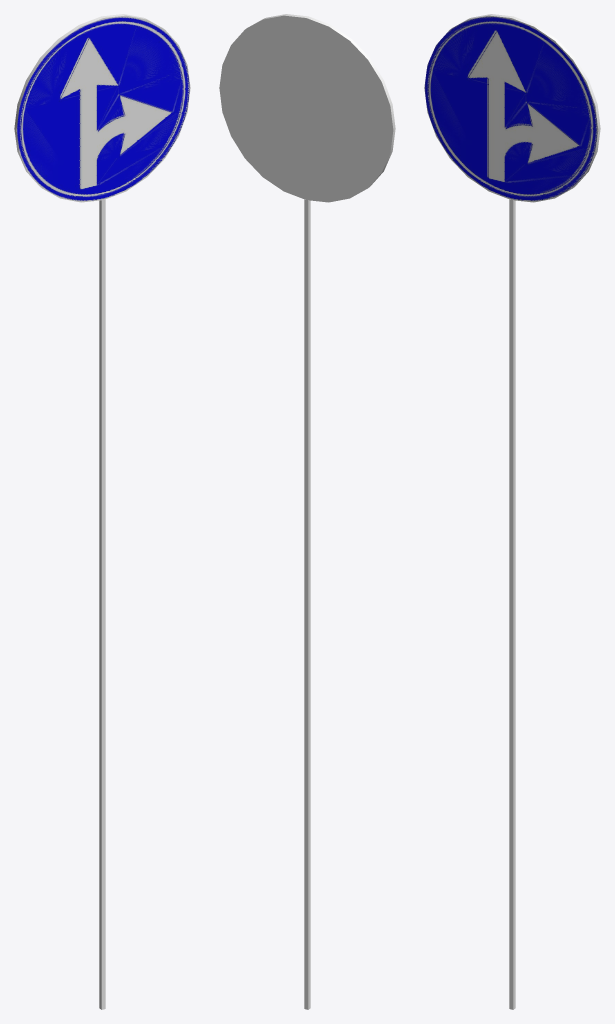
File: trafik_levha_ileri_veya_sola_mecburi_yol.obj
3 views of the same model, side by side, from view 1: azimuth 30°, elevation 25°; view 2: azimuth 150°, elevation 25°; view 3: azimuth 330°, elevation 25° (orthographic).
Visible parts, largest first — view 1: Mesh2 Group3 Group1 Model, Mesh1 Group2 Group1 Model; view 2: Mesh2 Group3 Group1 Model, Mesh1 Group2 Group1 Model; view 3: Mesh2 Group3 Group1 Model, Mesh1 Group2 Group1 Model.
Boxes of the visible parts, bbox=[...] form: Mesh2 Group3 Group1 Model: bbox=[14, 14, 190, 202]; Mesh1 Group2 Group1 Model: bbox=[99, 199, 105, 1009]; Mesh2 Group3 Group1 Model: bbox=[219, 14, 395, 202]; Mesh1 Group2 Group1 Model: bbox=[304, 199, 310, 1009]; Mesh2 Group3 Group1 Model: bbox=[424, 14, 600, 202]; Mesh1 Group2 Group1 Model: bbox=[509, 199, 515, 1009].
Bounding box in the file's own units: 450 × 2450 × 10.
3 materials, 1 textured.
